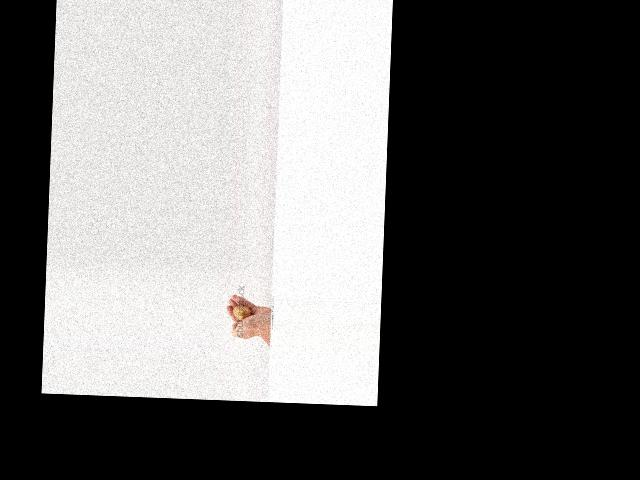egg: (233, 305, 251, 320)
